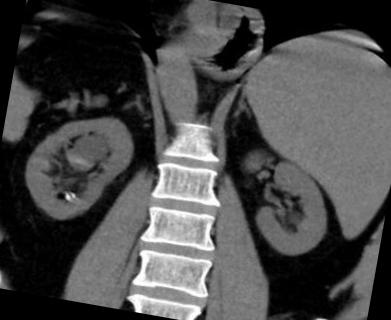Tas_Var: (68, 191, 76, 200), (63, 192, 70, 200)
